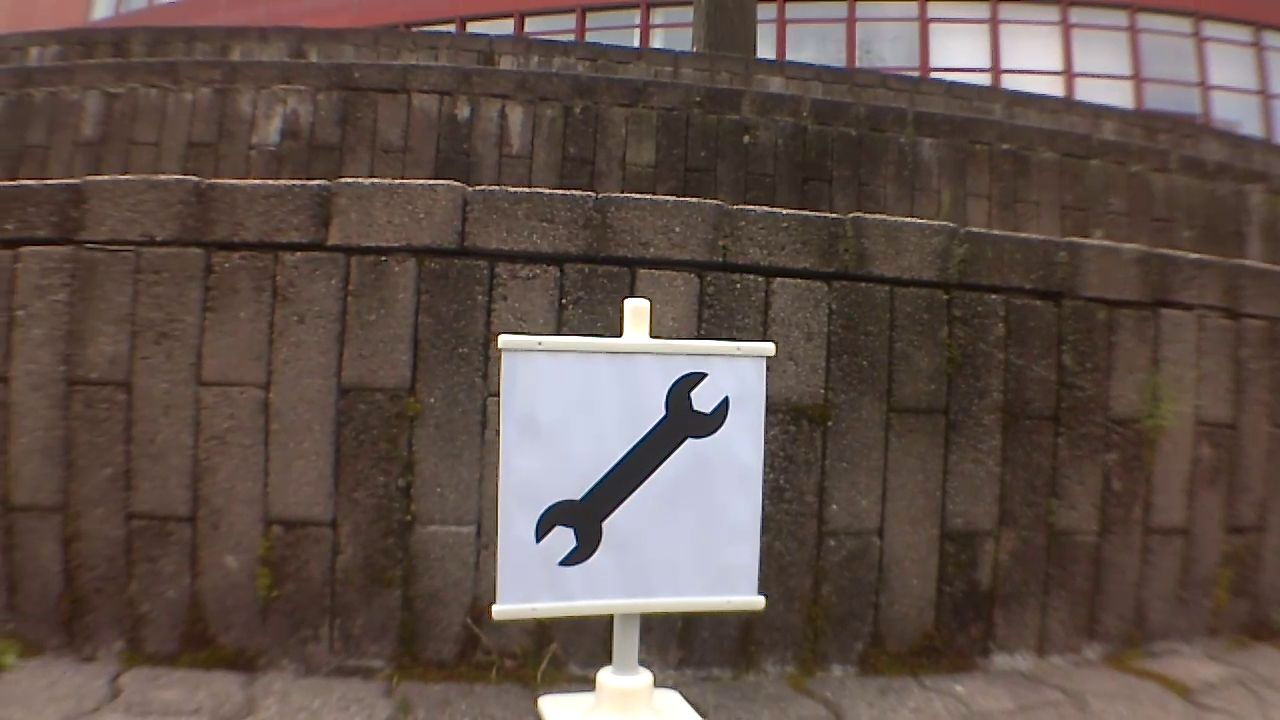wrench: (531, 370, 739, 568)
